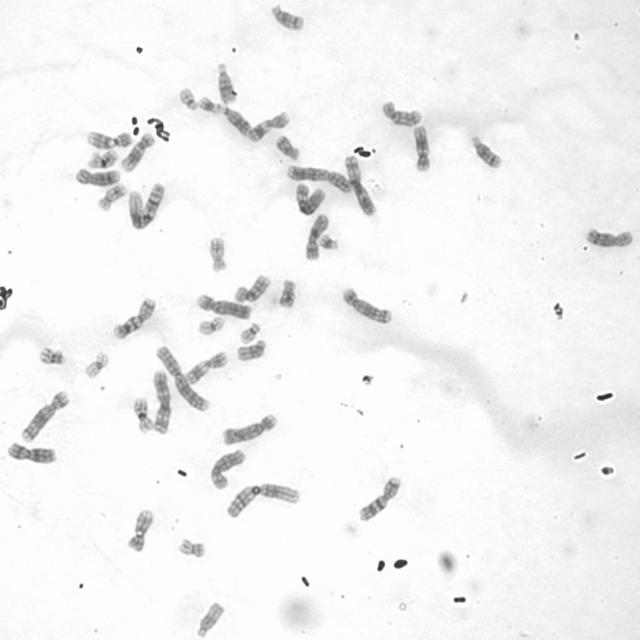A1: (223, 479, 302, 520), (126, 180, 167, 231)
A2: (154, 341, 212, 414), (284, 163, 352, 193)
A3: (342, 154, 378, 216), (150, 367, 173, 435)
B4: (220, 411, 278, 446), (195, 291, 252, 321)
B5: (19, 388, 70, 443), (340, 285, 393, 325)
C10: (379, 97, 423, 128), (232, 271, 272, 305)
C11: (181, 348, 229, 385), (246, 108, 291, 142)
C12: (119, 131, 155, 173), (410, 122, 432, 173)
C6: (208, 446, 248, 491), (294, 180, 326, 216)
C7: (356, 472, 402, 523), (110, 294, 157, 340)
C8: (583, 223, 634, 249), (71, 165, 122, 188)
C9: (124, 506, 155, 552), (85, 128, 132, 151)
D13: (218, 104, 251, 136), (214, 60, 237, 105)
D14: (468, 132, 503, 170), (268, 1, 306, 32)
D15: (192, 598, 226, 638), (235, 336, 268, 362)
E16: (130, 394, 154, 434), (84, 147, 119, 170)
E17: (95, 180, 128, 212), (207, 234, 228, 273)
E18: (273, 132, 301, 161), (276, 276, 298, 310)
F19: (82, 348, 110, 379), (195, 314, 226, 336)
F20: (176, 534, 207, 559), (36, 343, 67, 367)
G21: (196, 94, 221, 115), (318, 232, 340, 252)
G22: (176, 85, 199, 112), (237, 321, 261, 344)
X: (303, 210, 330, 262), (5, 439, 58, 465)
